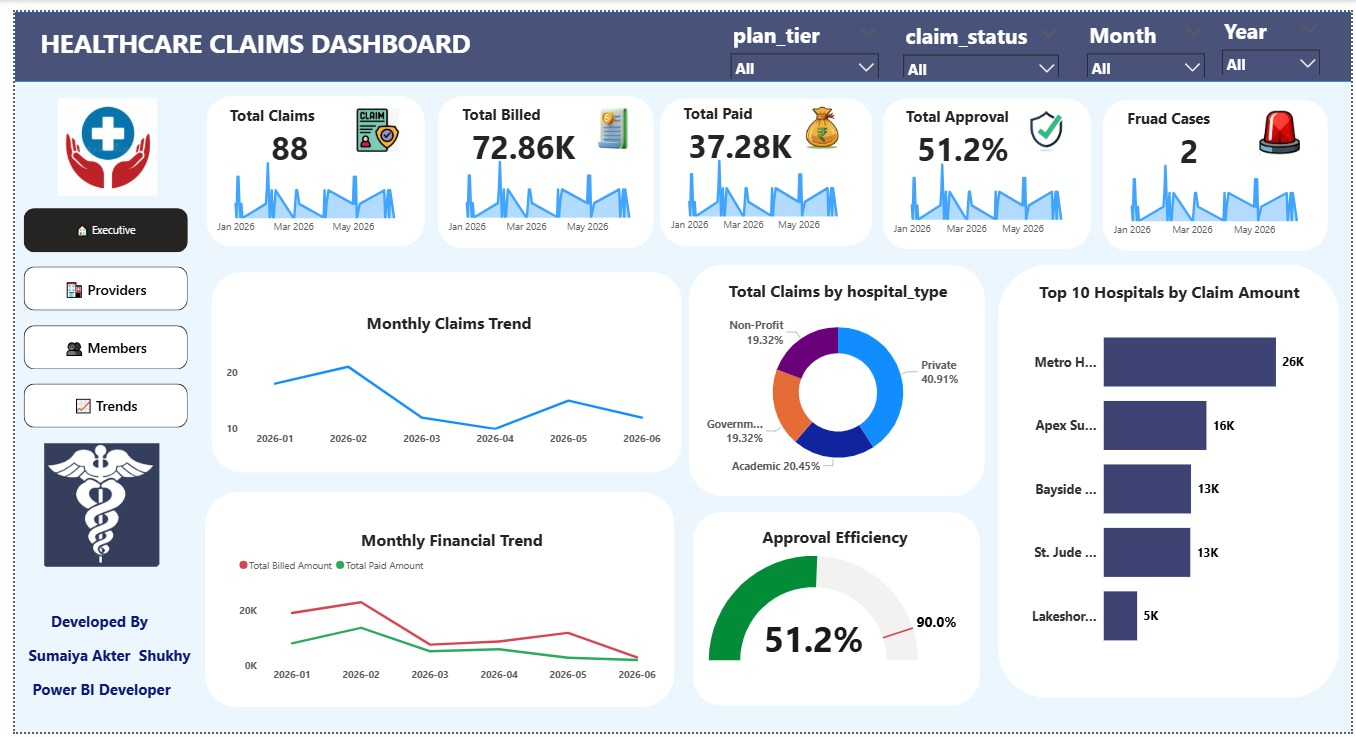

The page's visual inventory and layout, read from the dashboard file:
{"tool":"powerbi","page":{"name":"🏠 Executive ","canvas":[1670,900],"ordinal":0},"visuals":[{"type":"group","id":"g1","title":"Group 1","box":[0,0,1800,522.2],"z":0},{"type":"shape","box":[239.3,104.9,273.4,188.6],"z":0,"group":"g12"},{"type":"shape","box":[527.9,104.9,270.5,191],"z":0,"group":"g2"},{"type":"shape","box":[806.6,108.2,265.4,184.6],"z":0,"group":"g10"},{"type":"shape","box":[1083.6,108.2,261,189],"z":0,"group":"g8"},{"type":"shape","box":[1359,109.8,281.8,189.4],"z":0,"group":"g13"},{"type":"card","title":"Total Paid","fields":{"Values":["public fact_claims.Total Paid Amount"]},"box":[829.5,112.4,153.7,83.1],"z":0,"group":"g3"},{"type":"card","title":"Total Billed","fields":{"Values":["public fact_claims.Total Billed Amount"]},"box":[552.1,114.7,165.6,83.1],"z":0,"group":"g4"},{"type":"card","title":"Total Claims","fields":{"Values":["public fact_claims.Total Claims"]},"box":[262.8,116.1,162.5,82.5],"z":0,"group":"g5"},{"type":"card","title":"Total Approval","fields":{"Values":["public fact_claims.Approval NEW Rate %"]},"box":[1106.7,116.8,155.3,82.8],"z":0,"group":"g6"},{"type":"card","title":"Fruad Cases","fields":{"Values":["public fact_claims.Fraud Cases"]},"box":[1383.9,118.5,167.7,82.9],"z":0,"group":"g7"},{"type":"donutChart","fields":{"Category":["public dim_providers.hospital_type"],"Y":["public fact_claims.Total Claims"]},"box":[857.4,334.4,342.2,256.2],"z":0,"group":"g17"},{"type":"lineChart","title":"Monthly Claims Trend","fields":{"Y":["public fact_claims.Total Claims"],"Category":["Calendar.Year Month"]},"box":[259.3,374.6,566.1,176.3],"z":0,"group":"g14"},{"type":"group","id":"g2","title":"Group 3","box":[527.9,104.9,270.5,190.2],"z":1000},{"type":"group","id":"g3","title":"Group 2","box":[814.2,112.4,244.2,172.5],"z":1000,"group":"g10"},{"type":"group","id":"g4","title":"Group 2","box":[535.7,114.7,263.1,172.5],"z":1000,"group":"g2"},{"type":"group","id":"g5","title":"Group 2","box":[246.7,116.1,258.1,171.2],"z":1000,"group":"g12"},{"type":"group","id":"g6","title":"Group 2","box":[1091.3,116.8,246.7,171.7],"z":1000,"group":"g8"},{"type":"group","id":"g7","title":"Group 2","box":[1367.3,118.5,266.4,172],"z":1000,"group":"g13"},{"type":"areaChart","fields":{"Y":["public fact_claims.Total Claims"],"Category":["Calendar.Date.Variation.Date Hierarchy.Year","Calendar.Date.Variation.Date Hierarchy.Quarter","Calendar.Date.Variation.Date Hierarchy.Month","Calendar.Date.Variation.Date Hierarchy.Day"]},"box":[814.2,172,244.2,112.9],"z":1000,"group":"g3"},{"type":"areaChart","fields":{"Y":["public fact_claims.Total Claims"],"Category":["Calendar.Date.Variation.Date Hierarchy.Year","Calendar.Date.Variation.Date Hierarchy.Quarter","Calendar.Date.Variation.Date Hierarchy.Month","Calendar.Date.Variation.Date Hierarchy.Day"]},"box":[535.7,174.3,263.1,112.9],"z":1000,"group":"g4"},{"type":"areaChart","fields":{"Y":["public fact_claims.Total Claims"],"Category":["Calendar.Date.Variation.Date Hierarchy.Year","Calendar.Date.Variation.Date Hierarchy.Quarter","Calendar.Date.Variation.Date Hierarchy.Month","Calendar.Date.Variation.Date Hierarchy.Day"]},"box":[246.7,175.2,258.1,112.1],"z":1000,"group":"g5"},{"type":"areaChart","fields":{"Y":["public fact_claims.Total Claims"],"Category":["Calendar.Date.Variation.Date Hierarchy.Year","Calendar.Date.Variation.Date Hierarchy.Quarter","Calendar.Date.Variation.Date Hierarchy.Month","Calendar.Date.Variation.Date Hierarchy.Day"]},"box":[1091.3,176.1,246.7,112.4],"z":1000,"group":"g6"},{"type":"areaChart","fields":{"Y":["public fact_claims.Total Claims"],"Category":["Calendar.Date.Variation.Date Hierarchy.Year","Calendar.Date.Variation.Date Hierarchy.Quarter","Calendar.Date.Variation.Date Hierarchy.Month","Calendar.Date.Variation.Date Hierarchy.Day"]},"box":[1367.3,177.9,266.4,112.6],"z":1000,"group":"g7"},{"type":"pageNavigator","box":[10.9,245.4,205.9,276.8],"z":1000,"group":"g1"},{"type":"shape","box":[1227.9,316.4,427.1,542.4],"z":1000,"group":"g16"},{"type":"shape","box":[847.5,624.6,359.4,242.2],"z":1000,"group":"g19"},{"type":"shape","box":[0,0,1800,86.9],"z":2000,"group":"g1"},{"type":"group","id":"g8","title":"Group 3","box":[1083.6,108.2,260.7,186.9],"z":2000},{"type":"image","box":[983.2,117.4,53.4,54.6],"z":2000,"group":"g3"},{"type":"image","box":[717.7,119.7,57.5,54.6],"z":2000,"group":"g4"},{"type":"image","box":[425.3,121,56.5,54.2],"z":2000,"group":"g5"},{"type":"image","box":[1262,121.7,54,54.4],"z":2000,"group":"g6"},{"type":"image","box":[1551.6,123.5,58.3,54.5],"z":2000,"group":"g7"},{"type":"textbox","box":[26.2,13.1,608.2,60.7],"z":3000,"group":"g1"},{"type":"group","id":"g9","title":"Group 1","box":[544.8,688.5,112.6,163.9],"z":3000},{"type":"group","id":"g10","title":"Group 3","box":[806.6,108.2,265.6,185.2],"z":4000},{"type":"image","box":[13.1,539.7,191.8,154.1],"z":4000,"group":"g11"},{"type":"image","box":[544.8,688.5,112.6,163.9],"z":4000,"group":"g9"},{"type":"image","box":[19.7,108.2,191.8,121.3],"z":5000,"group":"g1"},{"type":"group","id":"g11","title":"Group 1","box":[13.1,539.7,191.8,154.1],"z":5000},{"type":"group","id":"g12","title":"Group 3","box":[239.3,104.9,273.8,188.5],"z":6000},{"type":"group","id":"g13","title":"Group 3","box":[1359,109.8,283.6,186.9],"z":7000},{"type":"shape","box":[245.9,324.6,588.5,250.8],"z":8000},{"type":"group","id":"g14","title":"Group 4","box":[259.3,374.6,566.1,176.3],"z":9000},{"type":"shape","box":[237.7,600,586.9,268.9],"z":10000},{"type":"shape","box":[842.6,316.4,370.5,290.2],"z":11000},{"type":"lineChart","title":"Monthly Financial Trend","fields":{"Category":["Calendar.Year Month"],"Y":["public fact_claims.Total Billed Amount","public fact_claims.Total Paid Amount"]},"box":[275,645.3,542.2,201.6],"z":12000},{"type":"group","id":"g15","title":"Group 5","box":[857.4,334.4,342.6,255.7],"z":13000},{"type":"group","id":"g16","title":"Group 6","box":[1227.9,316.4,427.1,542.4],"z":13004,"group":"g18"},{"type":"group","id":"g17","title":"Group 6","box":[857.4,334.4,342.2,256.2],"z":13004,"group":"g15"},{"type":"group","id":"g18","title":"Group 7","box":[1227.9,316.4,426.2,542.6],"z":14000},{"type":"group","id":"g19","title":"Group 6","box":[847.5,624.6,359.4,242.2],"z":14000,"group":"g20"},{"type":"textbox","box":[1.6,744.3,226.2,154.1],"z":15000},{"type":"clusteredBarChart","title":"Top 10 Hospitals by Claim Amount","fields":{"Y":["public fact_claims.Total Claims Amount"],"Category":["public dim_providers.hospital_name"]},"box":[1253.1,336.2,379.7,488.7],"z":15001,"group":"g18"},{"type":"group","id":"g20","title":"Group 8","box":[847.5,624.6,359,241],"z":16000},{"type":"gauge","title":"Approval Efficiency","fields":{"Y":["public fact_claims.Approval NEW Rate %"],"MinValue":["public fact_claims.Gauge Min"],"MaxValue":["public fact_claims.Gauge Max"],"TargetValue":["public fact_claims.Target Approval Rate"]},"box":[863.6,641.5,324.6,211.5],"z":16000,"group":"g20"},{"type":"slicer","fields":{"Values":["Calendar.Year"]},"box":[1498.4,0,142.6,78.7],"z":16001},{"type":"slicer","fields":{"Values":["Calendar.Month"]},"box":[1329.8,3.9,167.2,77],"z":16002},{"type":"slicer","fields":{"Values":["public fact_claims.claim_status"]},"box":[1100.3,5.6,214.8,75.4],"z":16003},{"type":"slicer","fields":{"Values":["public dim_plans.plan_tier"]},"box":[883.9,3.9,204.9,78.7],"z":16004}]}

Visuals, with their boxes in screenshot pixels (x1, y1, x2, y2), scaled from the page's 1670x900 canvas onto the 1356x737 screenshot:
"Group 1" group: (0, 0, 1355, 428)
shape: (194, 86, 416, 240)
shape: (429, 86, 648, 242)
shape: (655, 89, 870, 240)
shape: (880, 89, 1092, 243)
shape: (1103, 90, 1332, 245)
"Total Paid" card: (674, 92, 798, 160)
"Total Billed" card: (448, 94, 583, 162)
"Total Claims" card: (213, 95, 345, 163)
"Total Approval" card: (899, 96, 1025, 163)
"Fruad Cases" card: (1124, 97, 1260, 165)
donutChart - public dim_providers.hospital_type x public fact_claims.Total Claims: (696, 274, 974, 484)
"Monthly Claims Trend" lineChart: (211, 307, 670, 451)
"Group 3" group: (429, 86, 648, 242)
"Group 2" group: (661, 92, 859, 233)
"Group 2" group: (435, 94, 649, 235)
"Group 2" group: (200, 95, 410, 235)
"Group 2" group: (886, 96, 1086, 236)
"Group 2" group: (1110, 97, 1327, 238)
areaChart - public fact_claims.Total Claims x Calendar.Date.Variation.Date Hierarchy.Year: (661, 141, 859, 233)
areaChart - public fact_claims.Total Claims x Calendar.Date.Variation.Date Hierarchy.Year: (435, 143, 649, 235)
areaChart - public fact_claims.Total Claims x Calendar.Date.Variation.Date Hierarchy.Year: (200, 143, 410, 235)
areaChart - public fact_claims.Total Claims x Calendar.Date.Variation.Date Hierarchy.Year: (886, 144, 1086, 236)
areaChart - public fact_claims.Total Claims x Calendar.Date.Variation.Date Hierarchy.Year: (1110, 146, 1327, 238)
pageNavigator: (9, 201, 176, 428)
shape: (997, 259, 1344, 703)
shape: (688, 511, 980, 710)
shape: (0, 0, 1355, 71)
"Group 3" group: (880, 89, 1092, 242)
image: (798, 96, 842, 141)
image: (583, 98, 629, 143)
image: (345, 99, 391, 143)
image: (1025, 100, 1069, 144)
image: (1260, 101, 1307, 146)
textbox: (21, 11, 515, 60)
"Group 1" group: (442, 564, 534, 698)
"Group 3" group: (655, 89, 871, 240)
image: (11, 442, 166, 568)
image: (442, 564, 534, 698)
image: (16, 89, 172, 188)
"Group 1" group: (11, 442, 166, 568)
"Group 3" group: (194, 86, 417, 240)
"Group 3" group: (1103, 90, 1334, 243)
shape: (200, 266, 678, 471)
"Group 4" group: (211, 307, 670, 451)
shape: (193, 491, 670, 712)
shape: (684, 259, 985, 497)
"Monthly Financial Trend" lineChart: (223, 528, 664, 694)
"Group 5" group: (696, 274, 974, 483)
"Group 6" group: (997, 259, 1344, 703)
"Group 6" group: (696, 274, 974, 484)
"Group 7" group: (997, 259, 1343, 703)
"Group 6" group: (688, 511, 980, 710)
textbox: (1, 609, 185, 736)
"Top 10 Hospitals by Claim Amount" clusteredBarChart: (1017, 275, 1326, 676)
"Group 8" group: (688, 511, 980, 709)
"Approval Efficiency" gauge: (701, 525, 965, 699)
slicer - Calendar.Year: (1217, 0, 1332, 64)
slicer - Calendar.Month: (1080, 3, 1216, 66)
slicer - public fact_claims.claim_status: (893, 5, 1068, 66)
slicer - public dim_plans.plan_tier: (718, 3, 884, 68)
